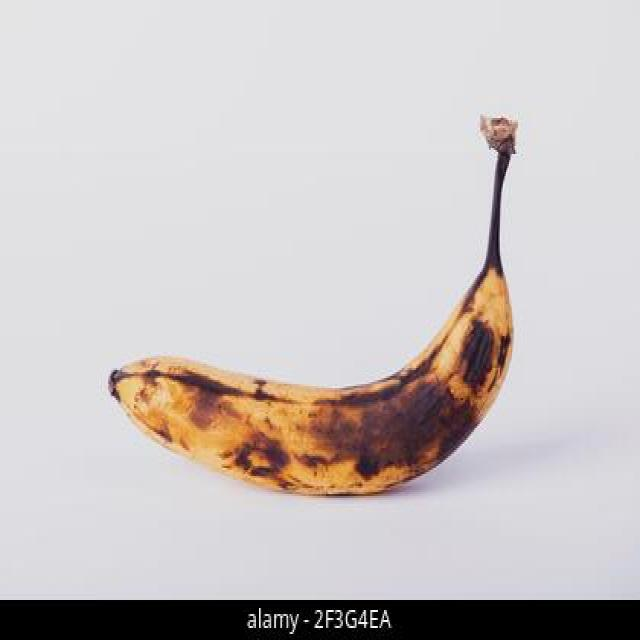overripe: (104, 156, 518, 502)
